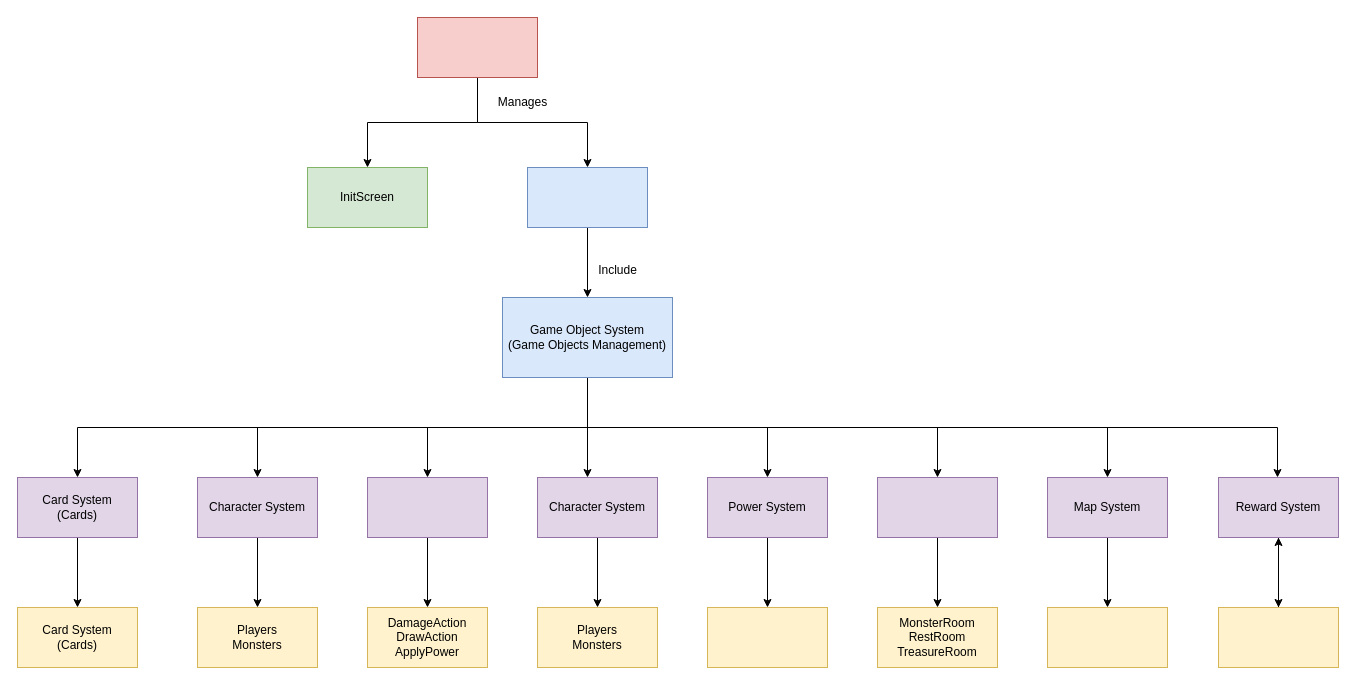
Some shapes in this 1356 by 685 pixel diagram are drawn without their labels. Here are the shapes that lost their labels. From the top down, the centre of each, then its label:
At (477,47): "TheApp (Game Engine)".
At (587,197): "Dungeon System (Game Logic Core)".
At (427,507): "Action System".
At (937,507): "Room System (Rooms)".
At (767,637): "StrengthBoost Weakness Vulnerability".
At (1107,637): "MapNode MapEdge MapDot".
At (1278,637): "GoldReward CardReward".
